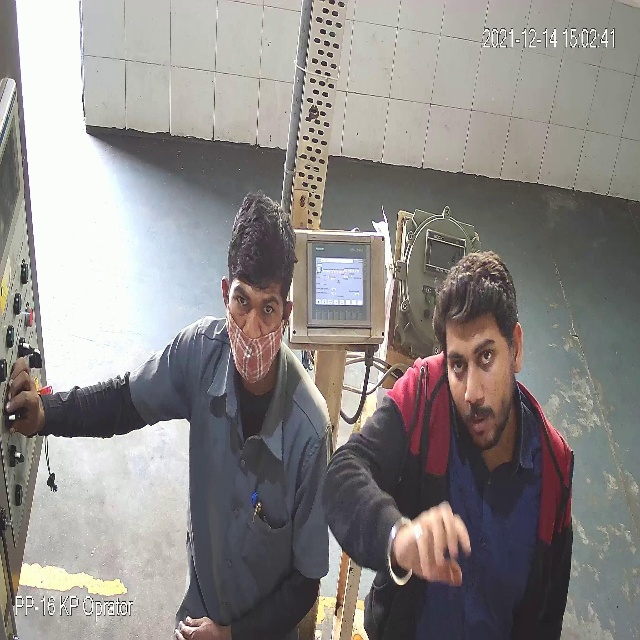Sin_gafas: (448, 344, 503, 381), (230, 289, 284, 326)
Sin_mascara: (454, 387, 513, 452)
